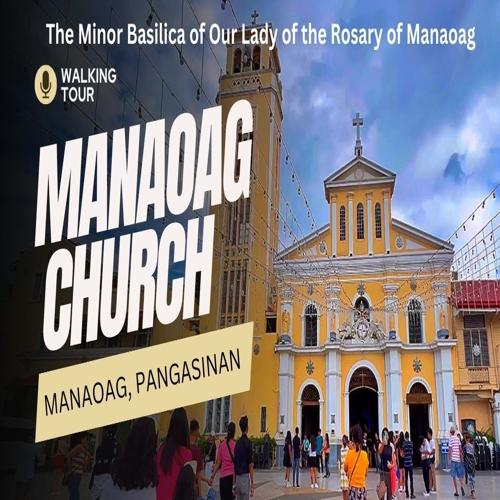Manaoag Church: (197, 10, 460, 467)
